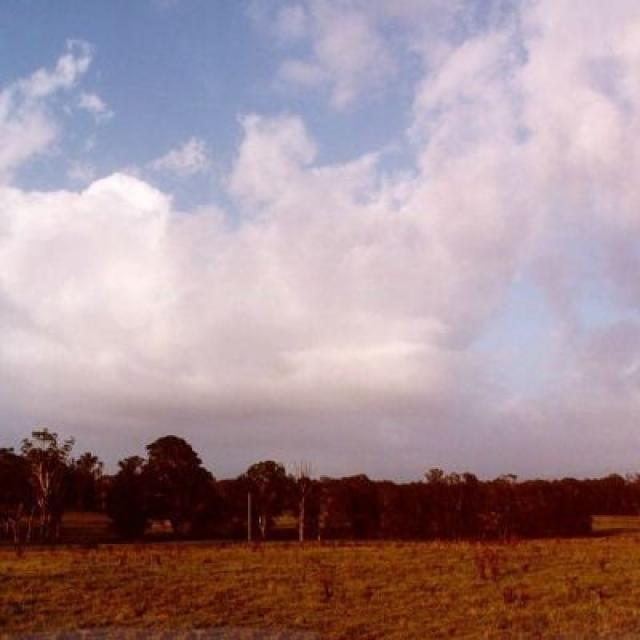Sc: (2, 43, 640, 404)
